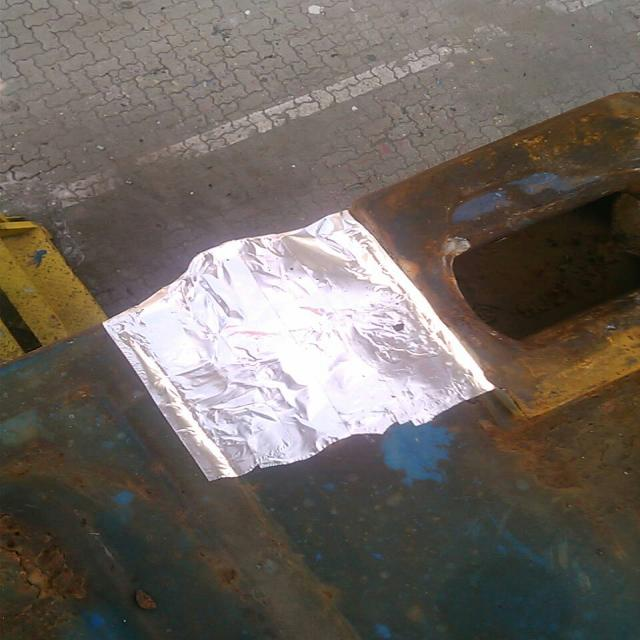rust: (348, 90, 640, 423), (1, 509, 106, 640), (5, 431, 166, 501)
